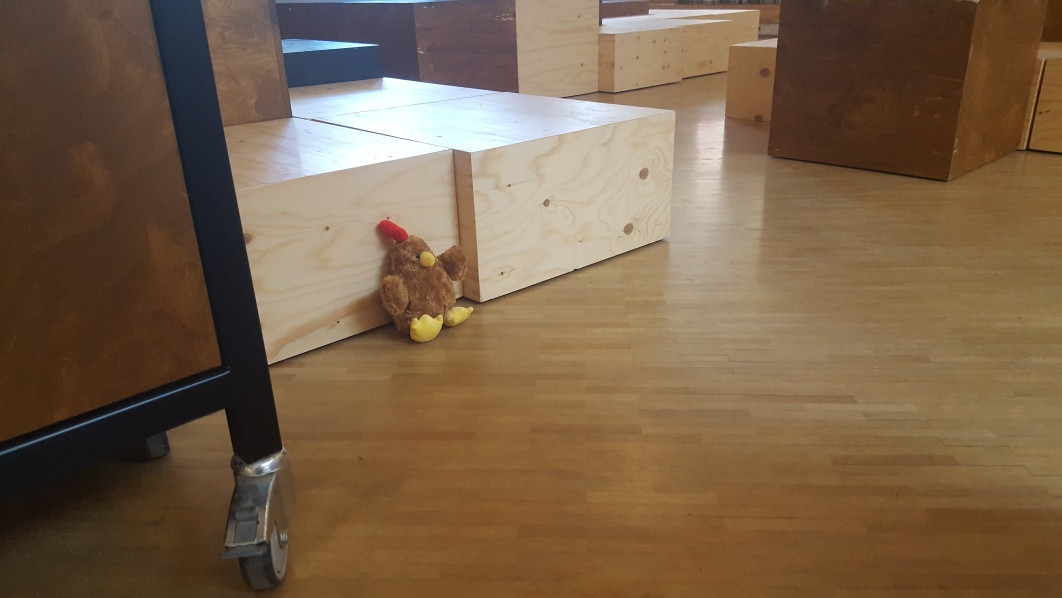chicken: (367, 214, 473, 340)
